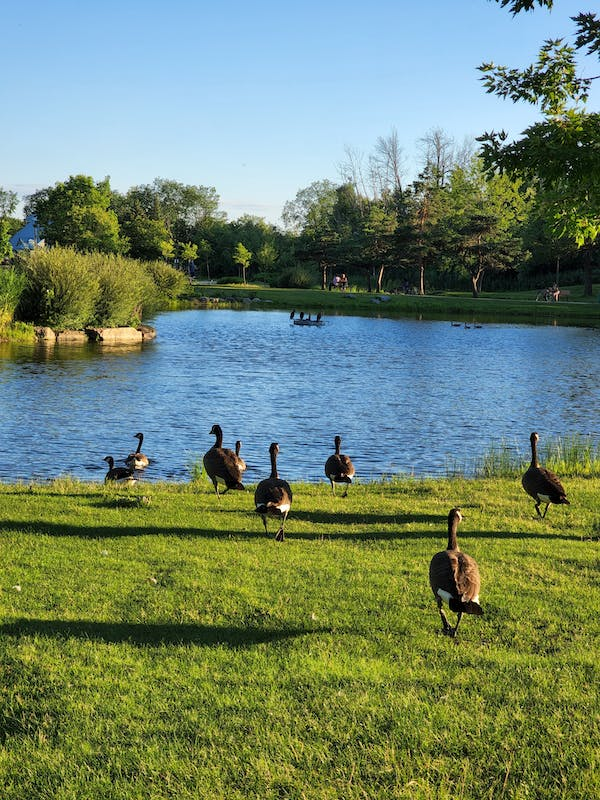Walking: (412, 497, 516, 696), (512, 410, 593, 560), (242, 427, 307, 586), (87, 421, 162, 518), (315, 417, 381, 518), (188, 414, 244, 518)
